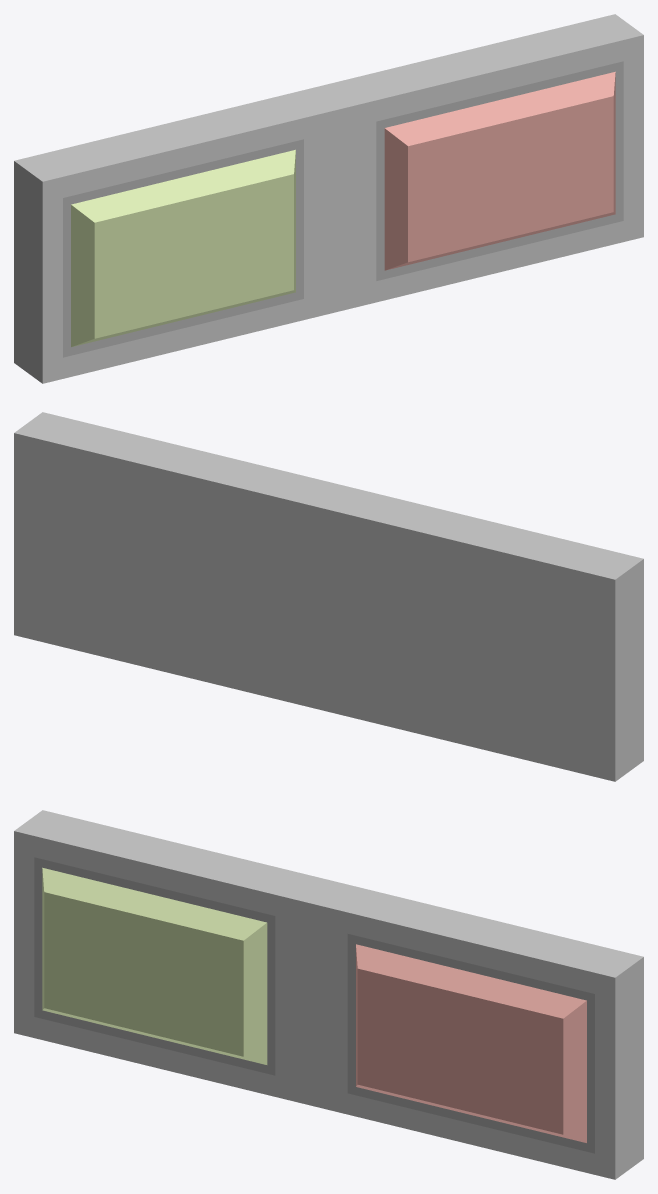
File: sensor input.fbx
The picture shows the model from 3 angles, top to bottom: view 1: azimuth 30°, elevation 25°; view 2: azimuth 150°, elevation 25°; view 3: azimuth 330°, elevation 25°; orthographic projection.
Parts seen in each view (by area): view 1: Cube_2; view 2: Cube_2; view 3: Cube_2.
Boxes of the visible parts, left/top/right/bottom form: Cube_2: left=14, top=14, right=643, bottom=383; Cube_2: left=14, top=412, right=643, bottom=781; Cube_2: left=14, top=810, right=643, bottom=1179.
Bounding box in the file's own units: 17.78 × 5.71 × 2.03.
